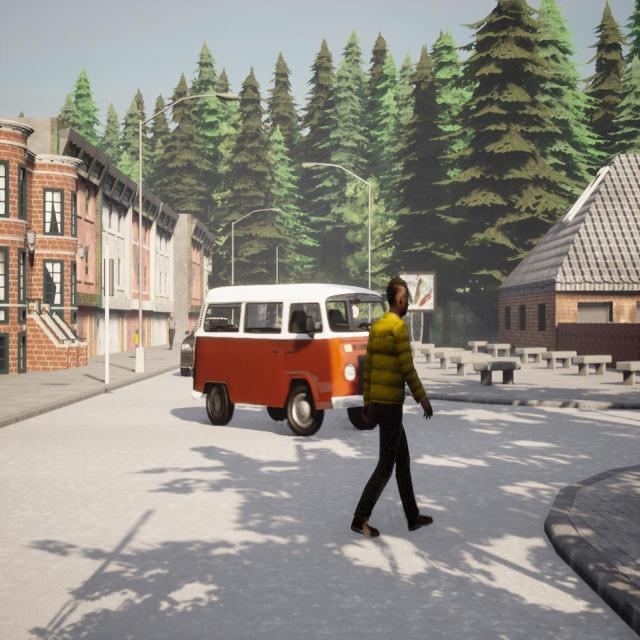Pedestrian: (351, 278, 433, 538), (167, 311, 176, 351), (133, 329, 139, 358)
Traffic_Signs: (351, 306, 359, 318)
Vehicle: (192, 283, 384, 435), (180, 317, 238, 377)
traffic_light: (104, 259, 113, 296)
